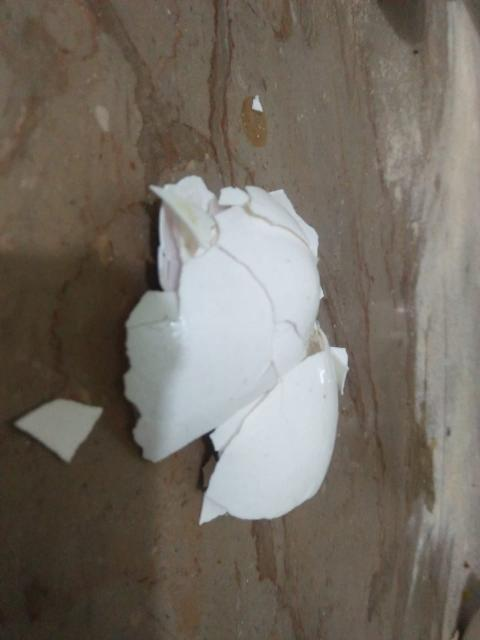Roto: (121, 173, 350, 524)
